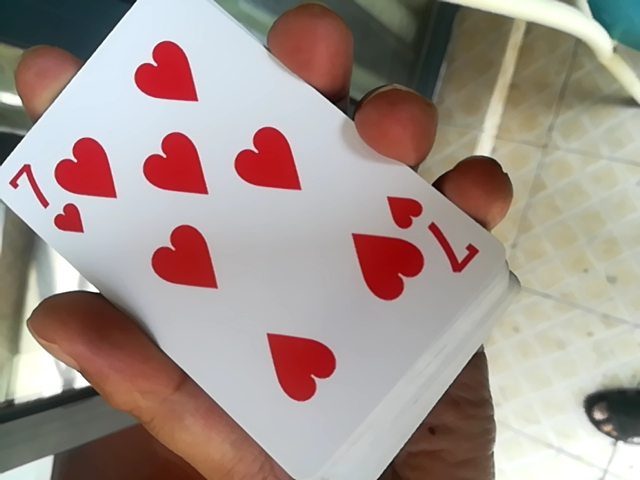hx 7: (17, 2, 489, 479)
